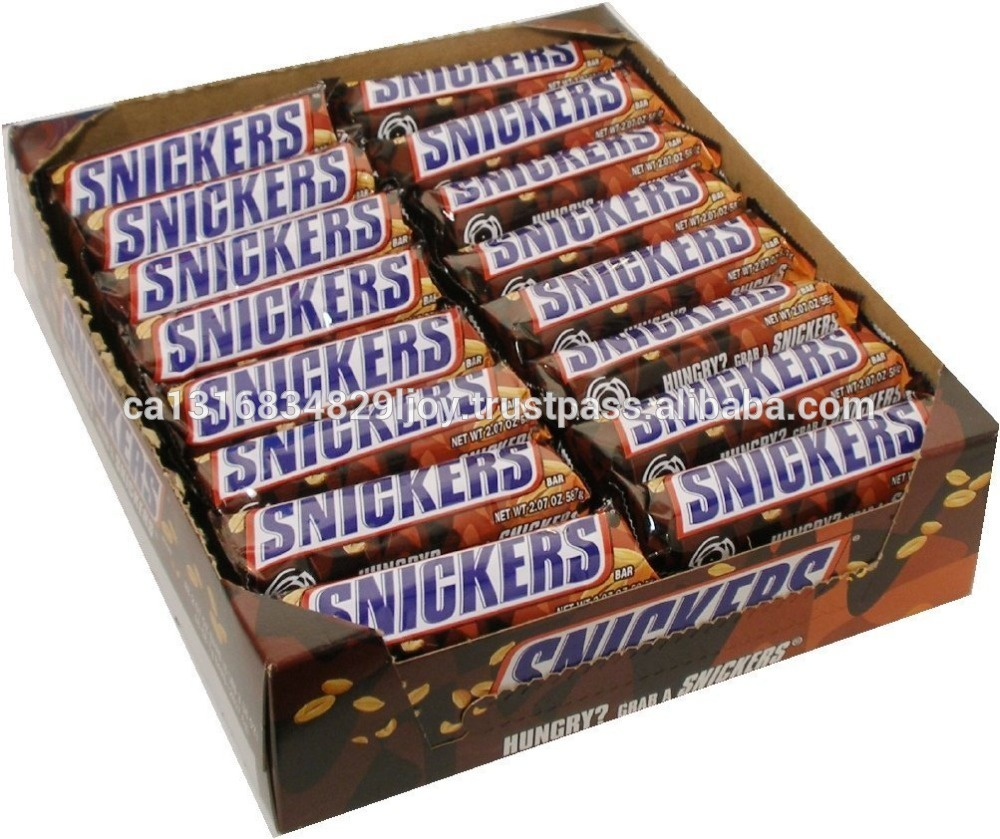snickers: (510, 543, 834, 686), (317, 515, 598, 640), (325, 515, 598, 640), (259, 440, 530, 563), (223, 367, 483, 489), (197, 310, 448, 432), (165, 249, 409, 373), (171, 249, 409, 373), (681, 400, 917, 519), (143, 197, 381, 310), (75, 97, 299, 212), (115, 148, 345, 260), (627, 327, 857, 439), (533, 215, 749, 317), (181, 197, 381, 301), (488, 167, 699, 265), (418, 69, 623, 168), (422, 69, 623, 168), (566, 281, 784, 367), (453, 122, 653, 209), (370, 35, 572, 105)
